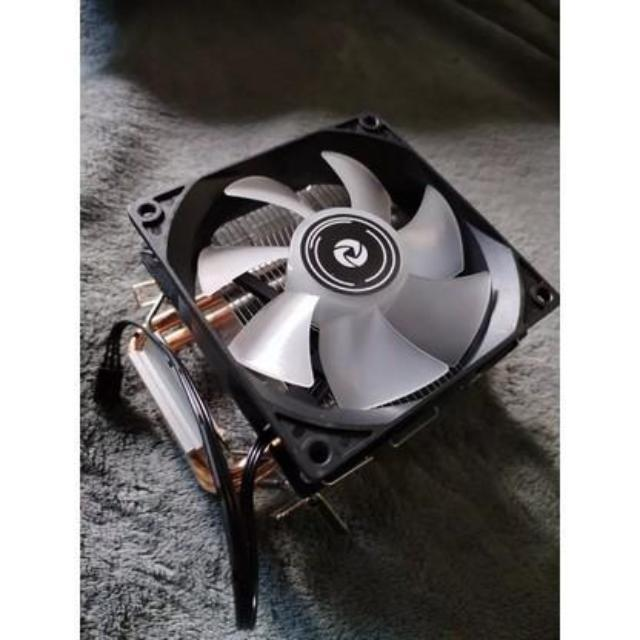CPU_Fan: (121, 117, 556, 500)
